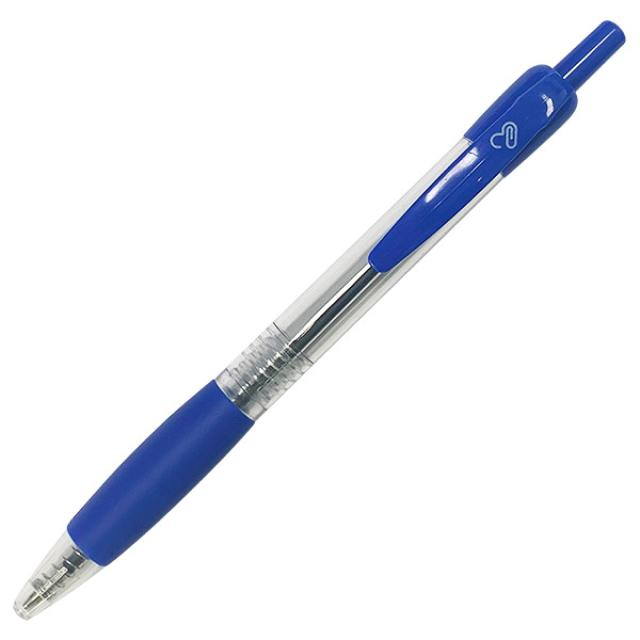pen: (0, 0, 639, 630)
